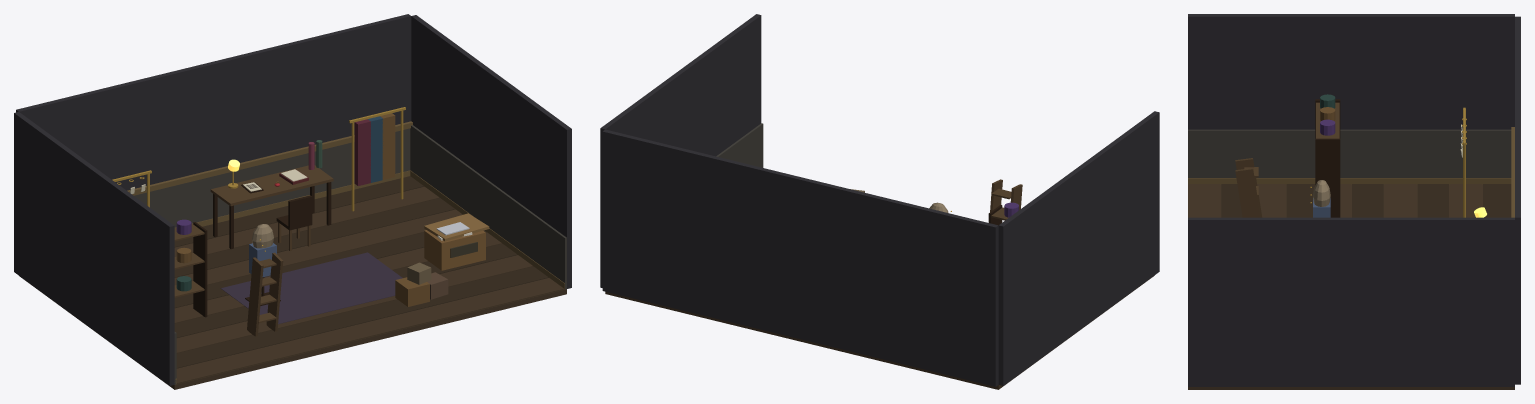
File: store.glb
3 views of the same model, side by side, from view 1: azimuth 30°, elevation 25°; view 2: azimuth 150°, elevation 25°; view 3: azimuth 270°, elevation 25° (orthographic). The views are drawn at different scales.
Parts seen in each view (by area): view 1: WallBack, WallLeft, WallRight, BandRight, BandBack, Plank0, StoreRug, Plank1, Plank7, Plank6, Plank2, Plank8 (+20 smaller); view 2: WallBack, WallLeft, WallRight, Floor, BandRight; view 3: WallRight, WallLeft, BandLeft, WallBack, SkirtLeft, ShelfSideR, Floor, Plank6, Plank0, Plank5, Plank7, Plank9 (+9 smaller).
Boxes of the visible parts, x1,y1,x2,y2 form: WallBack: [16, 14, 411, 190]; WallLeft: [14, 112, 174, 385]; WallRight: [411, 15, 571, 288]; BandRight: [410, 125, 566, 289]; BandBack: [134, 128, 410, 227]; Plank0: [176, 278, 564, 383]; StoreRug: [221, 252, 402, 324]; Plank1: [176, 266, 548, 368]; Plank7: [174, 198, 455, 277]; Plank6: [174, 209, 462, 285]; Plank2: [176, 255, 532, 353]; Plank8: [174, 186, 439, 256]; WallBack: [602, 129, 998, 386]; WallLeft: [998, 111, 1159, 385]; WallRight: [600, 14, 761, 287]; Floor: [605, 275, 1154, 389]; BandRight: [716, 123, 763, 167]; WallRight: [1188, 217, 1514, 386]; WallLeft: [1188, 14, 1514, 129]; BandLeft: [1188, 129, 1511, 177]; WallBack: [1515, 16, 1520, 384]; SkirtLeft: [1188, 178, 1511, 184]; ShelfSideR: [1315, 138, 1340, 217]; Floor: [1188, 184, 1514, 389]; Plank6: [1384, 184, 1416, 217]; Plank0: [1188, 184, 1219, 217]; Plank5: [1352, 184, 1383, 217]; Plank7: [1417, 184, 1448, 217]; Plank9: [1483, 184, 1511, 217].
Bounding box in the file's own units: 8.2 × 3.2 × 5.6.
